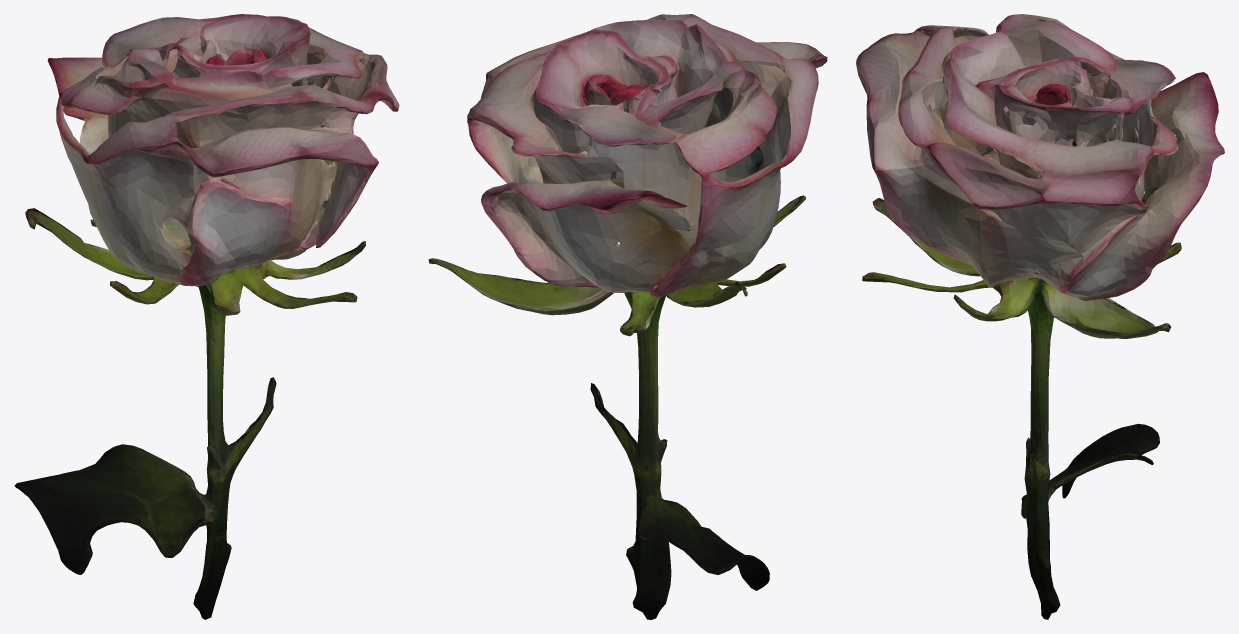
3 renders of one model, left to right at view 1: azimuth 30°, elevation 25°; view 2: azimuth 150°, elevation 25°; view 3: azimuth 270°, elevation 25°, orthographic. The views are drawn at different scales.
Visible parts, largest first — view 1: world; view 2: world; view 3: world.
Part boxes in pixels (bbox=[...]): world: bbox=[14, 14, 399, 619]; world: bbox=[428, 14, 827, 619]; world: bbox=[856, 14, 1224, 619].
Bounding box in the file's own units: 0.5545 × 0.9858 × 0.5784.
Materials: 1 (1 with a texture image).
